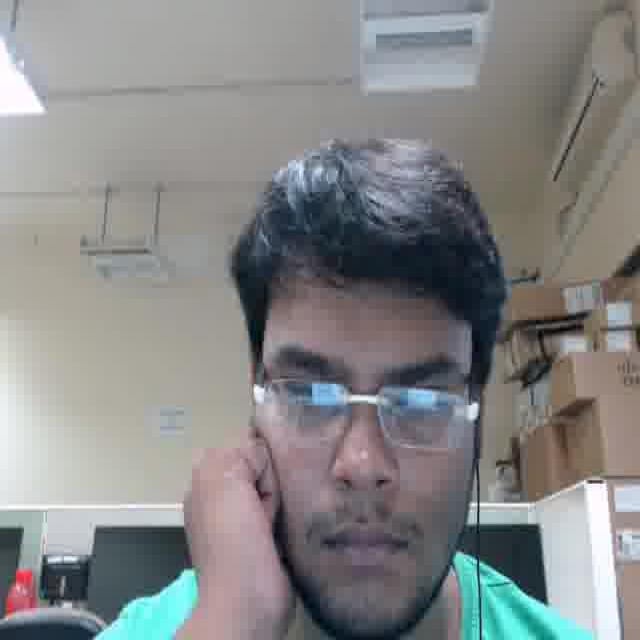Frustration: (260, 276, 474, 633)
